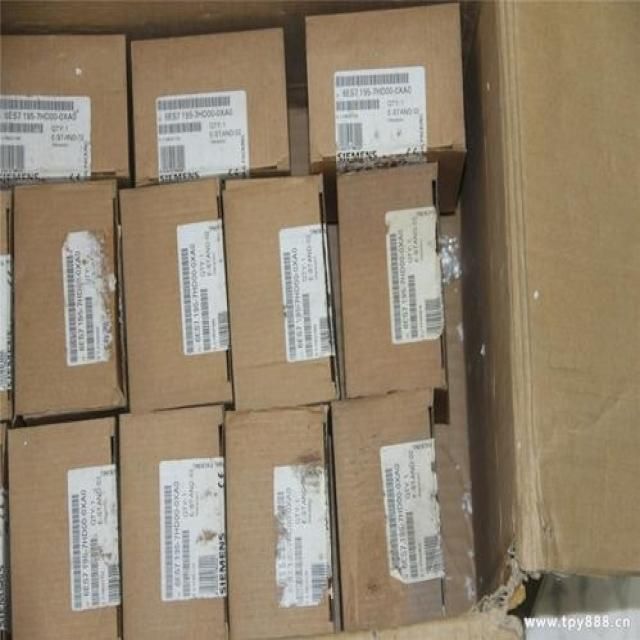box: (2, 0, 639, 638), (306, 1, 467, 224), (14, 171, 129, 422), (225, 171, 342, 411), (332, 388, 446, 630), (118, 180, 235, 413), (225, 403, 340, 636), (115, 402, 229, 636), (9, 415, 124, 638), (339, 163, 447, 400), (130, 28, 289, 187), (1, 33, 132, 190), (0, 184, 14, 424), (329, 223, 344, 400), (0, 423, 12, 639)
